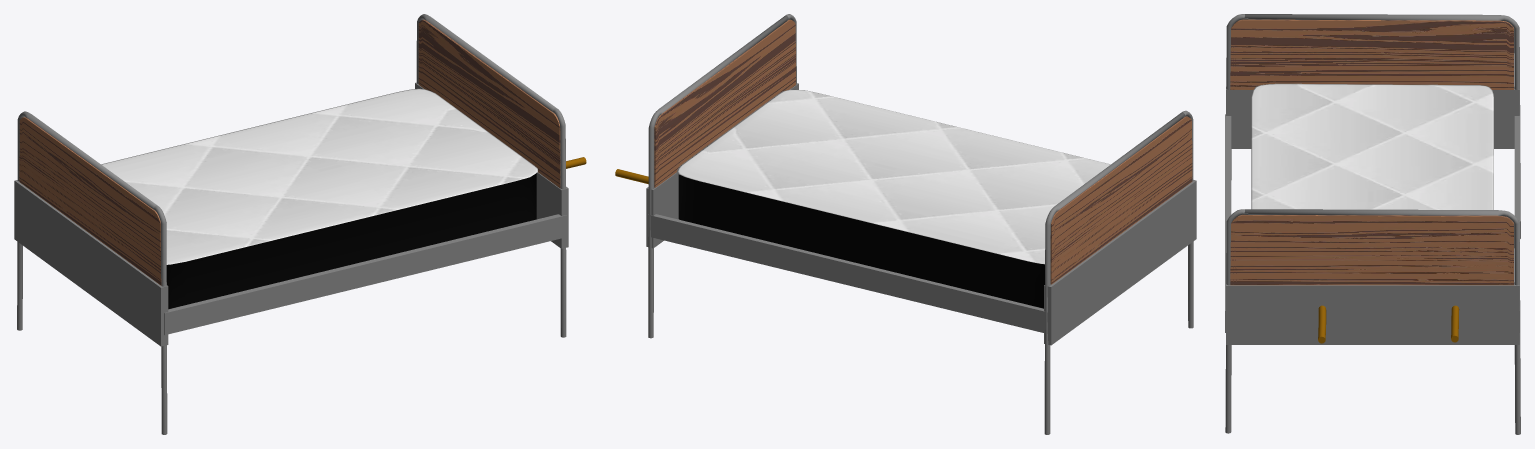
File: bed.glb
The picture shows the model from 3 angles, left to right: view 1: azimuth 30°, elevation 25°; view 2: azimuth 150°, elevation 25°; view 3: azimuth 270°, elevation 25°; orthographic projection.
Parts seen in each view (by area): view 1: Circle.018, Cylinder, Cube.013; view 2: Circle.018, Cylinder, Cube.013; view 3: Cube.013, Circle.018, Cylinder, BézierCurve.
Part boxes in pixels (x1=…): Circle.018: x1=101, y1=88, x2=537, y2=309; Cylinder: x1=14, y1=14, x2=568, y2=434; Cube.013: x1=19, y1=19, x2=560, y2=285; Circle.018: x1=677, y1=89, x2=1110, y2=308; Cylinder: x1=646, y1=14, x2=1196, y2=434; Cube.013: x1=654, y1=19, x2=1192, y2=284; Cube.013: x1=1230, y1=19, x2=1513, y2=285; Circle.018: x1=1251, y1=83, x2=1493, y2=209; Cylinder: x1=1225, y1=14, x2=1520, y2=434; BézierCurve: x1=1318, y1=305, x2=1459, y2=343.
Bounding box in the file's own units: 268 × 121 × 145.
Materials: 7 (2 with a texture image).
